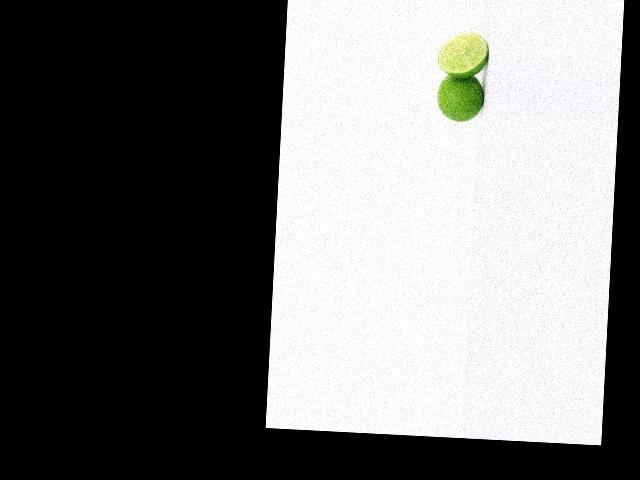lemon: (434, 72, 488, 125)
